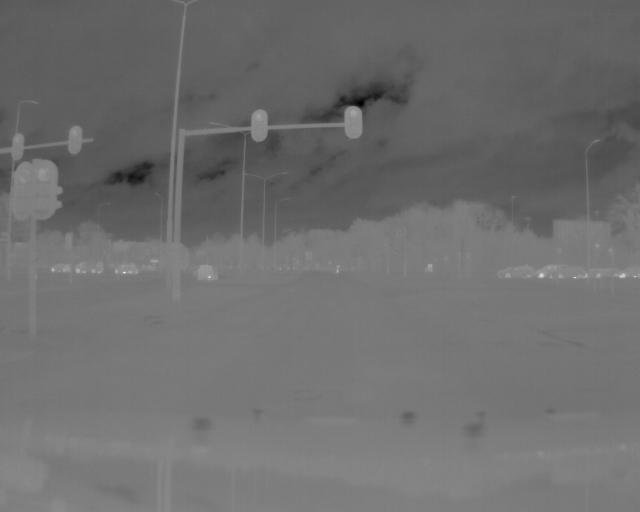car: (497, 264, 536, 281), (74, 258, 105, 276), (552, 264, 588, 279), (194, 264, 219, 283), (114, 262, 142, 276)
